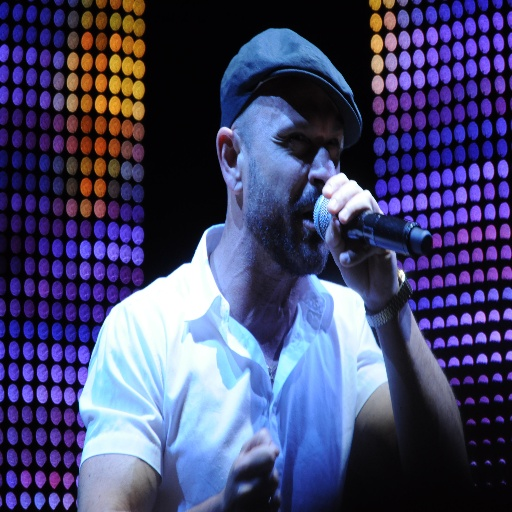hand: (316, 171, 398, 288), (223, 426, 282, 511)
